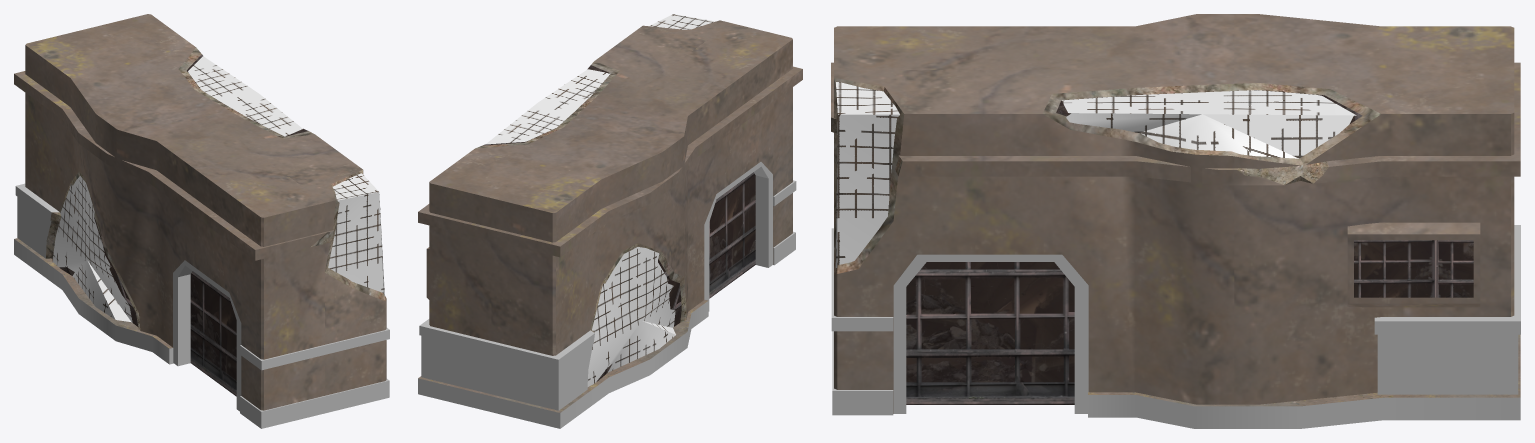
Rendered from ghiway_3b.fbx.
3 renders of one model, left to right at view 1: azimuth 30°, elevation 25°; view 2: azimuth 150°, elevation 25°; view 3: azimuth 270°, elevation 25°, orthographic. The views are drawn at different scales.
Parts seen in each view (by area): view 1: ghiway_3b; view 2: ghiway_3b; view 3: ghiway_3b.
Part boxes in pixels (x1=…): ghiway_3b: x1=14, y1=14, x2=389, y2=428; ghiway_3b: x1=418, y1=14, x2=802, y2=428; ghiway_3b: x1=831, y1=14, x2=1520, y2=428.
Bounding box in the file's own units: 699 × 847 × 1760.
